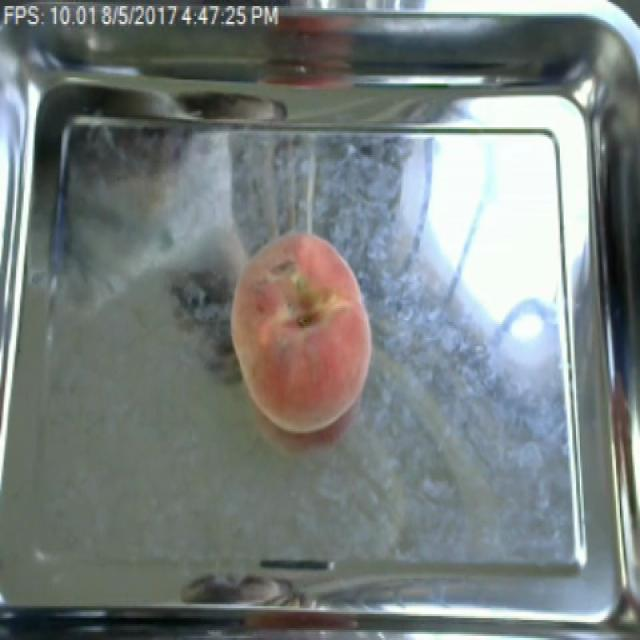Fruit: (220, 223, 381, 441)
